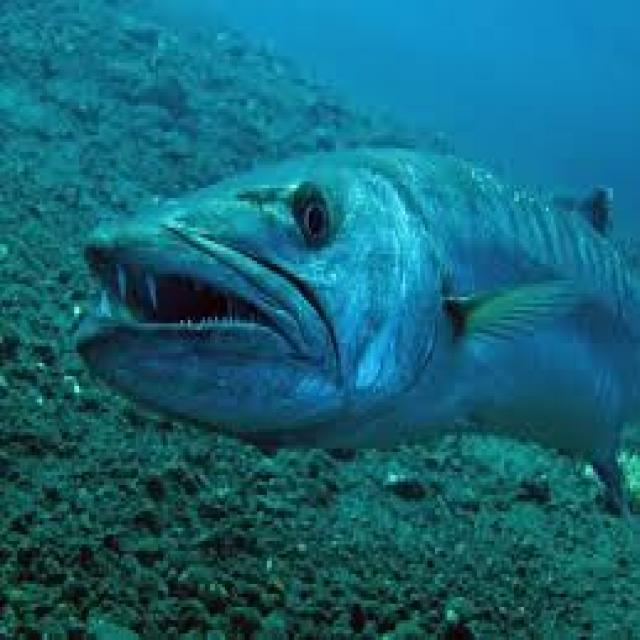Barracuda: (71, 142, 640, 541)
